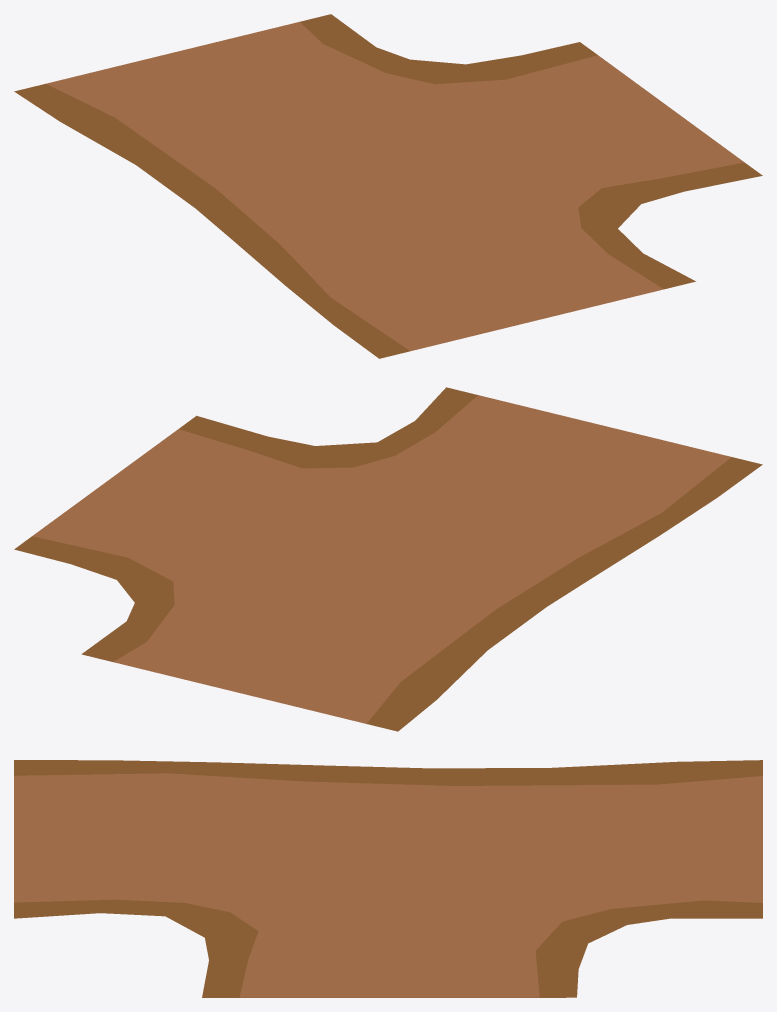
The model's file is dirt_road_T_cross.fbx.
3 renders of one model, top to bottom at view 1: azimuth 30°, elevation 25°; view 2: azimuth 150°, elevation 25°; view 3: azimuth 270°, elevation 25°, orthographic. The views are drawn at different scales.
Visible parts, largest first — view 1: dirt_road_T_cross; view 2: dirt_road_T_cross; view 3: dirt_road_T_cross.
Part boxes in pixels (x1,y1,x2,y2): dirt_road_T_cross: [14, 14, 762, 358]; dirt_road_T_cross: [14, 387, 762, 731]; dirt_road_T_cross: [14, 760, 762, 997].
Bounding box in the file's own units: 150 × 3.25e-05 × 200.
